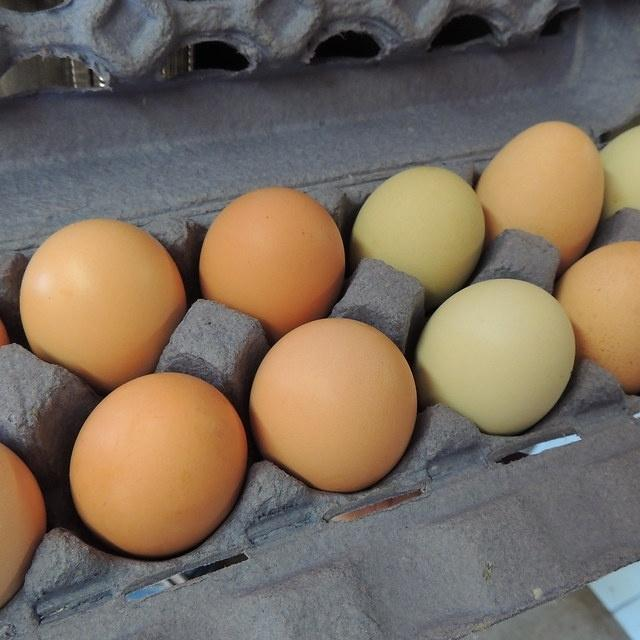egg: (68, 371, 247, 558), (249, 317, 417, 493), (19, 217, 186, 392), (198, 185, 345, 340), (476, 119, 604, 271), (555, 240, 640, 394), (0, 426, 46, 638)
